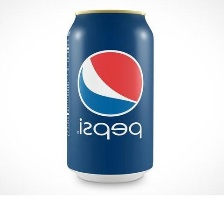can: (62, 4, 159, 184)
